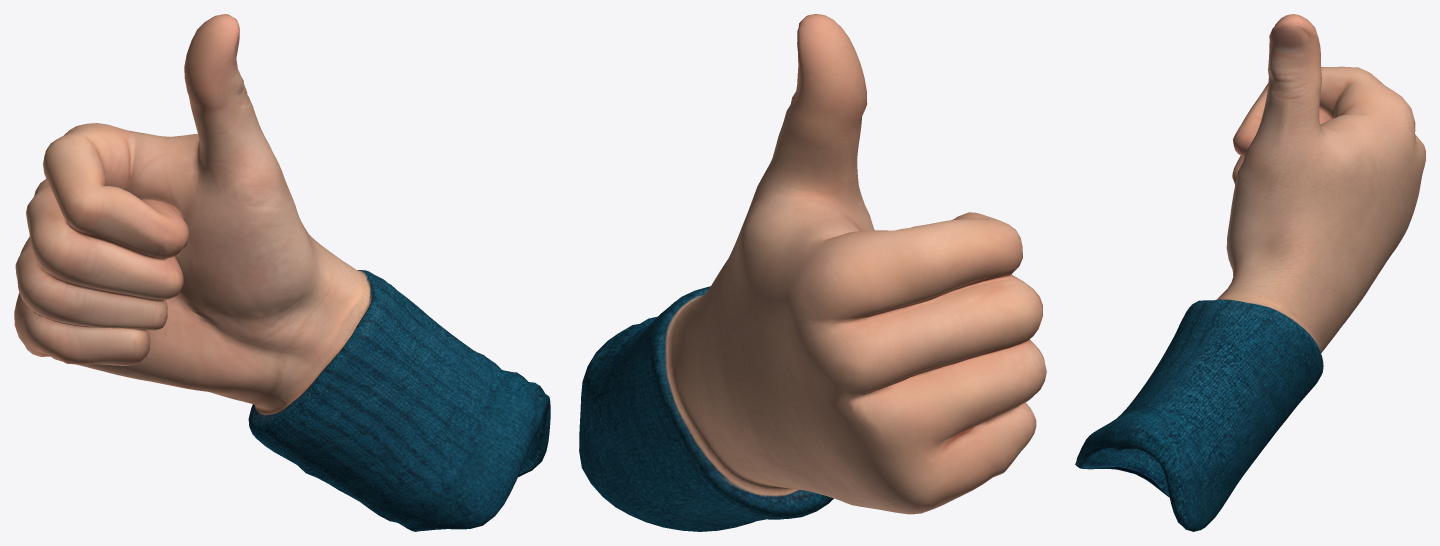
File: Hand_Right_ThumbsUp.fbx
The picture shows the model from 3 angles, left to right: view 1: azimuth 30°, elevation 25°; view 2: azimuth 150°, elevation 25°; view 3: azimuth 270°, elevation 25°; orthographic projection. The views are drawn at different scales.
Visible parts, largest first — view 1: tripo_595b559e_7257_4e8d_b290_13f6bad27b36; view 2: tripo_595b559e_7257_4e8d_b290_13f6bad27b36; view 3: tripo_595b559e_7257_4e8d_b290_13f6bad27b36.
Boxes of the visible parts, x1,y1,x2,y2 form: tripo_595b559e_7257_4e8d_b290_13f6bad27b36: [14, 14, 550, 531]; tripo_595b559e_7257_4e8d_b290_13f6bad27b36: [579, 14, 1046, 531]; tripo_595b559e_7257_4e8d_b290_13f6bad27b36: [1075, 14, 1425, 531].
Bounding box in the file's own units: 0.9448 × 0.9995 × 0.7397.
1 material, 1 textured.
